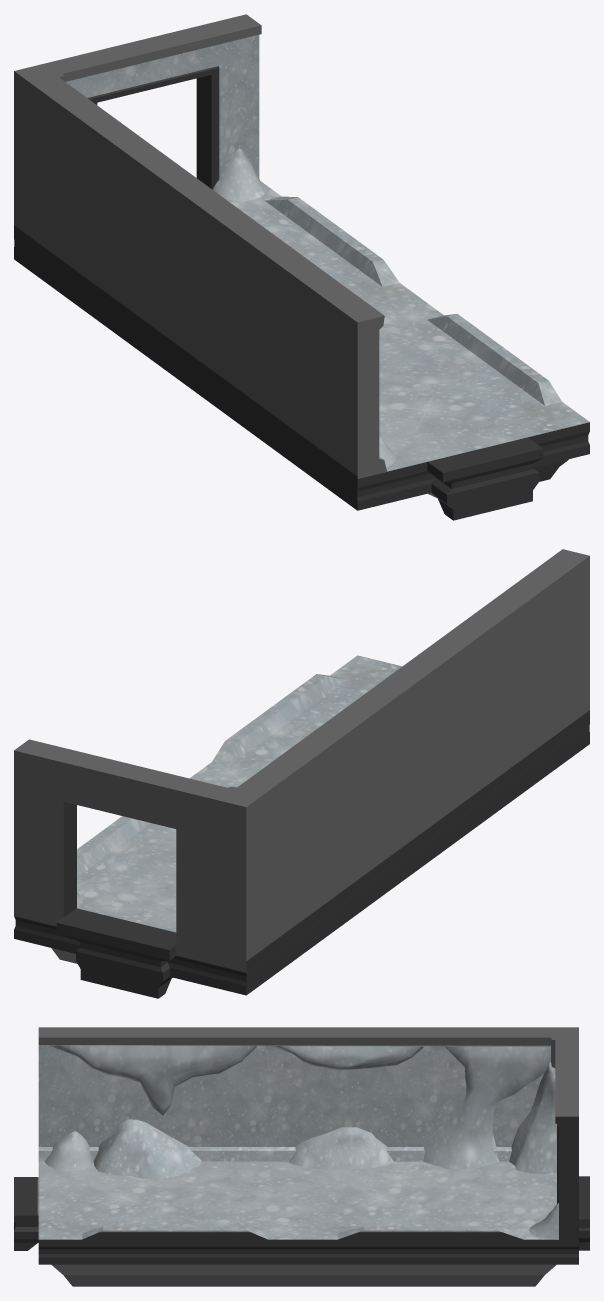
The model's file is TrainCooler.fbx.
3 renders of one model, top to bottom at view 1: azimuth 30°, elevation 25°; view 2: azimuth 150°, elevation 25°; view 3: azimuth 270°, elevation 25°, orthographic. The views are drawn at different scales.
Visible parts, largest first — view 1: TrainCooler1; view 2: TrainCooler1; view 3: TrainCooler1.
Boxes of the visible parts, <box> form: TrainCooler1: <box>14,14,589,520</box>; TrainCooler1: <box>14,549,589,998</box>; TrainCooler1: <box>14,1027,589,1286</box>.
Bounding box in the file's own units: 6.24 × 5.77 × 17.01.
